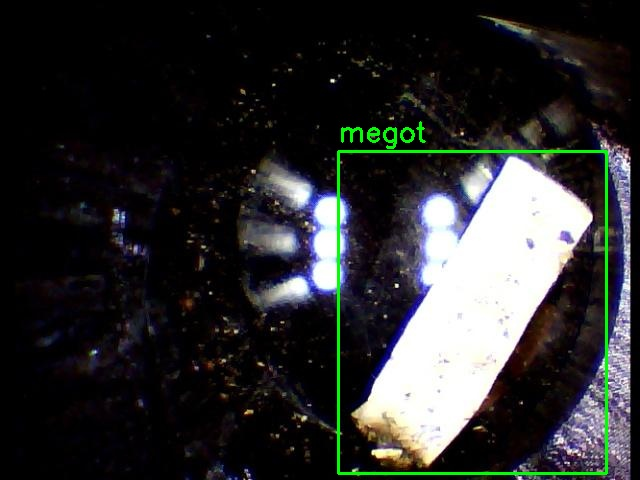megot: (338, 151, 606, 473)
